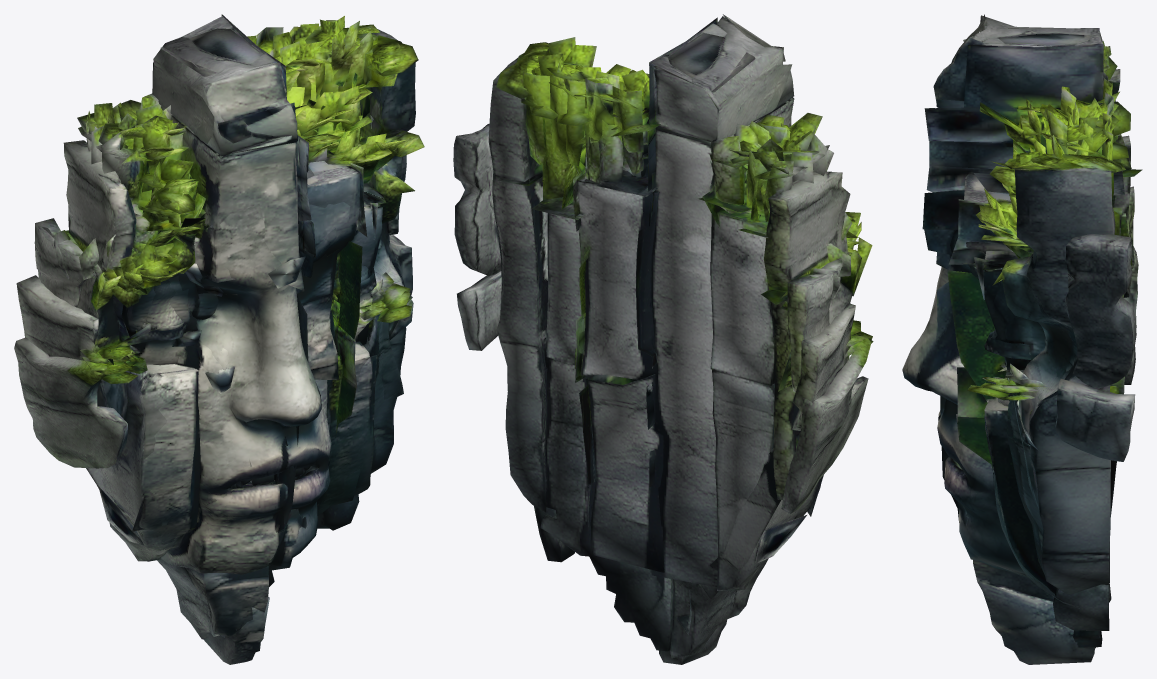
The model's file is Meshy_AI_Stone_Face_1016090612_texture.fbx.
3 renders of one model, left to right at view 1: azimuth 30°, elevation 25°; view 2: azimuth 150°, elevation 25°; view 3: azimuth 270°, elevation 25°, orthographic. The views are drawn at different scales.
Parts seen in each view (by area): view 1: mesh_node; view 2: mesh_node; view 3: mesh_node.
Part boxes in pixels (x1,y1,x2,y2): mesh_node: [14, 14, 424, 664]; mesh_node: [453, 14, 873, 664]; mesh_node: [902, 14, 1142, 664].
Bounding box in the file's own units: 64.26 × 100 × 34.57.
Materials: 1 (1 with a texture image).
